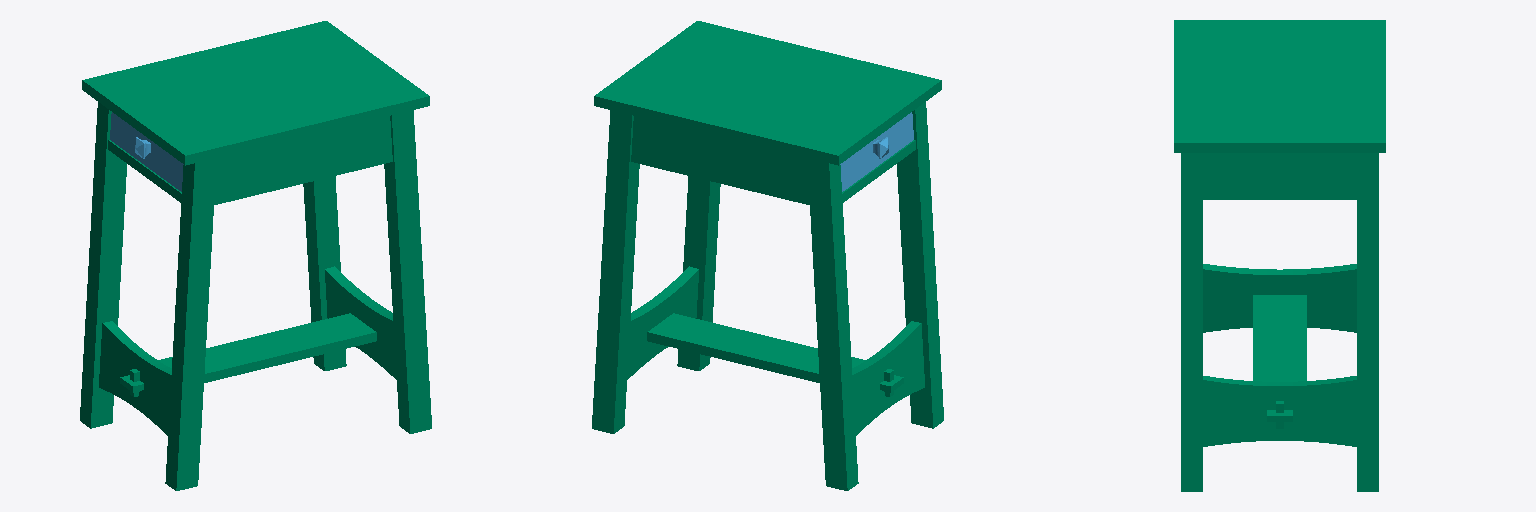
The robot description file, URDF, robot "partnet_48045af90c7959e5738e43095496b061":
<?xml version="1.0" ?>
<robot name="partnet_48045af90c7959e5738e43095496b061">
	<link name="base"/>
	<link name="link_0">
		<visual name="drawer_back-24">
			<origin xyz="0 0 0"/>
			<geometry>
				<mesh filename="textured_objs/original-5.obj"/>
			</geometry>
		</visual>
		<visual name="drawer_bottom-25">
			<origin xyz="0 0 0"/>
			<geometry>
				<mesh filename="textured_objs/original-4.obj"/>
			</geometry>
		</visual>
		<visual name="drawer_front-26">
			<origin xyz="0 0 0"/>
			<geometry>
				<mesh filename="textured_objs/original-2.obj"/>
			</geometry>
		</visual>
		<visual name="drawer_side-27">
			<origin xyz="0 0 0"/>
			<geometry>
				<mesh filename="textured_objs/original-6.obj"/>
			</geometry>
		</visual>
		<visual name="drawer_side-28">
			<origin xyz="0 0 0"/>
			<geometry>
				<mesh filename="textured_objs/original-3.obj"/>
			</geometry>
		</visual>
		<visual name="handle-19">
			<origin xyz="0 0 0"/>
			<geometry>
				<mesh filename="textured_objs/original-34.obj"/>
			</geometry>
		</visual>
		<collision>
			<origin xyz="0 0 0"/>
			<geometry>
				<mesh filename="textured_objs/original-5.obj"/>
			</geometry>
		</collision>
		<collision>
			<origin xyz="0 0 0"/>
			<geometry>
				<mesh filename="textured_objs/original-4.obj"/>
			</geometry>
		</collision>
		<collision>
			<origin xyz="0 0 0"/>
			<geometry>
				<mesh filename="textured_objs/original-2.obj"/>
			</geometry>
		</collision>
		<collision>
			<origin xyz="0 0 0"/>
			<geometry>
				<mesh filename="textured_objs/original-6.obj"/>
			</geometry>
		</collision>
		<collision>
			<origin xyz="0 0 0"/>
			<geometry>
				<mesh filename="textured_objs/original-3.obj"/>
			</geometry>
		</collision>
		<collision>
			<origin xyz="0 0 0"/>
			<geometry>
				<mesh filename="textured_objs/original-34.obj"/>
			</geometry>
		</collision>
	</link>
	<joint name="joint_0" type="prismatic">
		<origin xyz="0 0 0"/>
		<axis xyz="0 0 1"/>
		<child link="link_0"/>
		<parent link="link_1"/>
		<limit lower="0" upper="0.6960000000000002"/>
	</joint>
	<link name="link_1">
		<visual name="board-21">
			<origin xyz="0 0 0"/>
			<geometry>
				<mesh filename="textured_objs/original-33.obj"/>
			</geometry>
		</visual>
		<visual name="shelf-10">
			<origin xyz="0 0 0"/>
			<geometry>
				<mesh filename="textured_objs/original-24.obj"/>
			</geometry>
		</visual>
		<visual name="shelf-10">
			<origin xyz="0 0 0"/>
			<geometry>
				<mesh filename="textured_objs/original-25.obj"/>
			</geometry>
		</visual>
		<visual name="shelf-10">
			<origin xyz="0 0 0"/>
			<geometry>
				<mesh filename="textured_objs/original-23.obj"/>
			</geometry>
		</visual>
		<visual name="leg-11">
			<origin xyz="0 0 0"/>
			<geometry>
				<mesh filename="textured_objs/original-10.obj"/>
			</geometry>
		</visual>
		<visual name="leg-12">
			<origin xyz="0 0 0"/>
			<geometry>
				<mesh filename="textured_objs/original-22.obj"/>
			</geometry>
		</visual>
		<visual name="leg-13">
			<origin xyz="0 0 0"/>
			<geometry>
				<mesh filename="textured_objs/original-21.obj"/>
			</geometry>
		</visual>
		<visual name="leg-14">
			<origin xyz="0 0 0"/>
			<geometry>
				<mesh filename="textured_objs/original-8.obj"/>
			</geometry>
		</visual>
		<visual name="bar_stretcher-16">
			<origin xyz="0 0 0"/>
			<geometry>
				<mesh filename="textured_objs/original-7.obj"/>
			</geometry>
		</visual>
		<visual name="bar_stretcher-17">
			<origin xyz="0 0 0"/>
			<geometry>
				<mesh filename="textured_objs/original-16.obj"/>
			</geometry>
		</visual>
		<visual name="tabletop_connector-33">
			<origin xyz="0 0 0"/>
			<geometry>
				<mesh filename="textured_objs/original-13.obj"/>
			</geometry>
		</visual>
		<visual name="tabletop_connector-34">
			<origin xyz="0 0 0"/>
			<geometry>
				<mesh filename="textured_objs/original-18.obj"/>
			</geometry>
		</visual>
		<visual name="tabletop_connector-35">
			<origin xyz="0 0 0"/>
			<geometry>
				<mesh filename="textured_objs/original-11.obj"/>
			</geometry>
		</visual>
		<visual name="bar_stretcher-36">
			<origin xyz="0 0 0"/>
			<geometry>
				<mesh filename="textured_objs/original-27.obj"/>
			</geometry>
		</visual>
		<visual name="bar_stretcher-36">
			<origin xyz="0 0 0"/>
			<geometry>
				<mesh filename="textured_objs/original-32.obj"/>
			</geometry>
		</visual>
		<visual name="bar_stretcher-37">
			<origin xyz="0 0 0"/>
			<geometry>
				<mesh filename="textured_objs/original-31.obj"/>
			</geometry>
		</visual>
		<visual name="bar_stretcher-37">
			<origin xyz="0 0 0"/>
			<geometry>
				<mesh filename="textured_objs/original-28.obj"/>
			</geometry>
		</visual>
		<visual name="bar_stretcher-38">
			<origin xyz="0 0 0"/>
			<geometry>
				<mesh filename="textured_objs/original-9.obj"/>
			</geometry>
		</visual>
		<visual name="bar_stretcher-38">
			<origin xyz="0 0 0"/>
			<geometry>
				<mesh filename="textured_objs/original-29.obj"/>
			</geometry>
		</visual>
		<visual name="bar_stretcher-39">
			<origin xyz="0 0 0"/>
			<geometry>
				<mesh filename="textured_objs/original-26.obj"/>
			</geometry>
		</visual>
		<visual name="bar_stretcher-39">
			<origin xyz="0 0 0"/>
			<geometry>
				<mesh filename="textured_objs/original-30.obj"/>
			</geometry>
		</visual>
		<visual name="tabletop_connector-40">
			<origin xyz="0 0 0"/>
			<geometry>
				<mesh filename="textured_objs/original-20.obj"/>
			</geometry>
		</visual>
		<visual name="tabletop_connector-41">
			<origin xyz="0 0 0"/>
			<geometry>
				<mesh filename="textured_objs/original-15.obj"/>
			</geometry>
		</visual>
		<visual name="tabletop_connector-42">
			<origin xyz="0 0 0"/>
			<geometry>
				<mesh filename="textured_objs/original-19.obj"/>
			</geometry>
		</visual>
		<visual name="tabletop_connector-43">
			<origin xyz="0 0 0"/>
			<geometry>
				<mesh filename="textured_objs/original-14.obj"/>
			</geometry>
		</visual>
		<collision>
			<origin xyz="0 0 0"/>
			<geometry>
				<mesh filename="textured_objs/original-33.obj"/>
			</geometry>
		</collision>
		<collision>
			<origin xyz="0 0 0"/>
			<geometry>
				<mesh filename="textured_objs/original-24.obj"/>
			</geometry>
		</collision>
		<collision>
			<origin xyz="0 0 0"/>
			<geometry>
				<mesh filename="textured_objs/original-25.obj"/>
			</geometry>
		</collision>
		<collision>
			<origin xyz="0 0 0"/>
			<geometry>
				<mesh filename="textured_objs/original-23.obj"/>
			</geometry>
		</collision>
		<collision>
			<origin xyz="0 0 0"/>
			<geometry>
				<mesh filename="textured_objs/original-10.obj"/>
			</geometry>
		</collision>
		<collision>
			<origin xyz="0 0 0"/>
			<geometry>
				<mesh filename="textured_objs/original-22.obj"/>
			</geometry>
		</collision>
		<collision>
			<origin xyz="0 0 0"/>
			<geometry>
				<mesh filename="textured_objs/original-21.obj"/>
			</geometry>
		</collision>
		<collision>
			<origin xyz="0 0 0"/>
			<geometry>
				<mesh filename="textured_objs/original-8.obj"/>
			</geometry>
		</collision>
		<collision>
			<origin xyz="0 0 0"/>
			<geometry>
				<mesh filename="textured_objs/original-7.obj"/>
			</geometry>
		</collision>
		<collision>
			<origin xyz="0 0 0"/>
			<geometry>
				<mesh filename="textured_objs/original-16.obj"/>
			</geometry>
		</collision>
		<collision>
			<origin xyz="0 0 0"/>
			<geometry>
				<mesh filename="textured_objs/original-13.obj"/>
			</geometry>
		</collision>
		<collision>
			<origin xyz="0 0 0"/>
			<geometry>
				<mesh filename="textured_objs/original-18.obj"/>
			</geometry>
		</collision>
		<collision>
			<origin xyz="0 0 0"/>
			<geometry>
				<mesh filename="textured_objs/original-11.obj"/>
			</geometry>
		</collision>
		<collision>
			<origin xyz="0 0 0"/>
			<geometry>
				<mesh filename="textured_objs/original-27.obj"/>
			</geometry>
		</collision>
		<collision>
			<origin xyz="0 0 0"/>
			<geometry>
				<mesh filename="textured_objs/original-32.obj"/>
			</geometry>
		</collision>
		<collision>
			<origin xyz="0 0 0"/>
			<geometry>
				<mesh filename="textured_objs/original-31.obj"/>
			</geometry>
		</collision>
		<collision>
			<origin xyz="0 0 0"/>
			<geometry>
				<mesh filename="textured_objs/original-28.obj"/>
			</geometry>
		</collision>
		<collision>
			<origin xyz="0 0 0"/>
			<geometry>
				<mesh filename="textured_objs/original-9.obj"/>
			</geometry>
		</collision>
		<collision>
			<origin xyz="0 0 0"/>
			<geometry>
				<mesh filename="textured_objs/original-29.obj"/>
			</geometry>
		</collision>
		<collision>
			<origin xyz="0 0 0"/>
			<geometry>
				<mesh filename="textured_objs/original-26.obj"/>
			</geometry>
		</collision>
		<collision>
			<origin xyz="0 0 0"/>
			<geometry>
				<mesh filename="textured_objs/original-30.obj"/>
			</geometry>
		</collision>
		<collision>
			<origin xyz="0 0 0"/>
			<geometry>
				<mesh filename="textured_objs/original-20.obj"/>
			</geometry>
		</collision>
		<collision>
			<origin xyz="0 0 0"/>
			<geometry>
				<mesh filename="textured_objs/original-15.obj"/>
			</geometry>
		</collision>
		<collision>
			<origin xyz="0 0 0"/>
			<geometry>
				<mesh filename="textured_objs/original-19.obj"/>
			</geometry>
		</collision>
		<collision>
			<origin xyz="0 0 0"/>
			<geometry>
				<mesh filename="textured_objs/original-14.obj"/>
			</geometry>
		</collision>
	</link>
	<joint name="joint_1" type="fixed">
		<origin rpy="1.570796326794897 0 -1.570796326794897" xyz="0 0 0"/>
		<child link="link_1"/>
		<parent link="base"/>
	</joint>
</robot>

--- What the picture shows (computed from the rendered views, not written in the file) ---
3 views of the same robot in one strip: view 1: azimuth 30°, elevation 25°; view 2: azimuth 150°, elevation 25°; view 3: azimuth 270°, elevation 25° (orthographic).
Model partnet_48045af90c7959e5738e43095496b061 with 3 links and 2 joints (1 prismatic, 1 fixed), rooted at base, posed every joint at zero.
Visible links, largest first — view 1: link_1, link_0; view 2: link_1, link_0; view 3: link_1.
Link boxes in pixels (x1,y1,x2,y2): link_1: (80, 21, 431, 490); link_0: (110, 112, 183, 191); link_1: (592, 21, 943, 490); link_0: (840, 112, 913, 191); link_1: (1174, 20, 1385, 491).
Size in the robot's own frame: 0.9753 by 0.6739 by 1.21 metres.
31 mesh visuals loaded from 31 distinct referenced files (31 OBJ).
